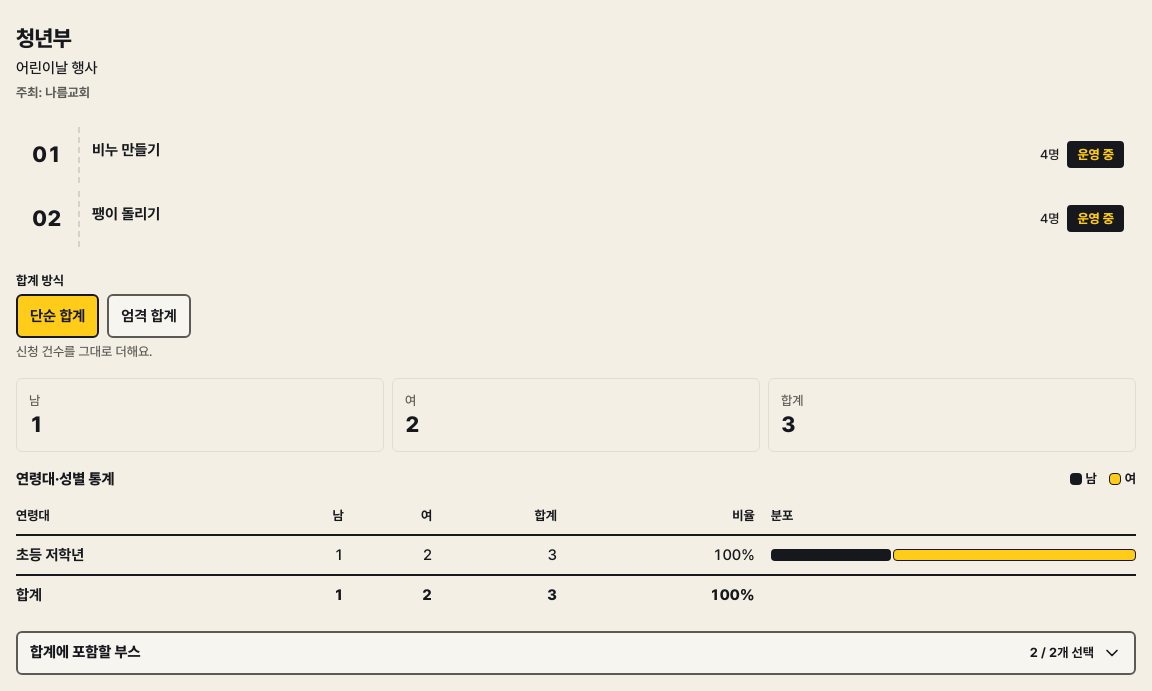
StatsPanel › 합계 방식마다 설명 문구가 바뀐다
The image size is (1152, 691).
Check: the text "신청 건수를 그대로 더해요." is shown, box x1=16 y1=344 x2=152 y2=359
Click the radio button labelled "엄격 합계" at (149, 316), box x1=107 y1=294 x2=191 y2=338
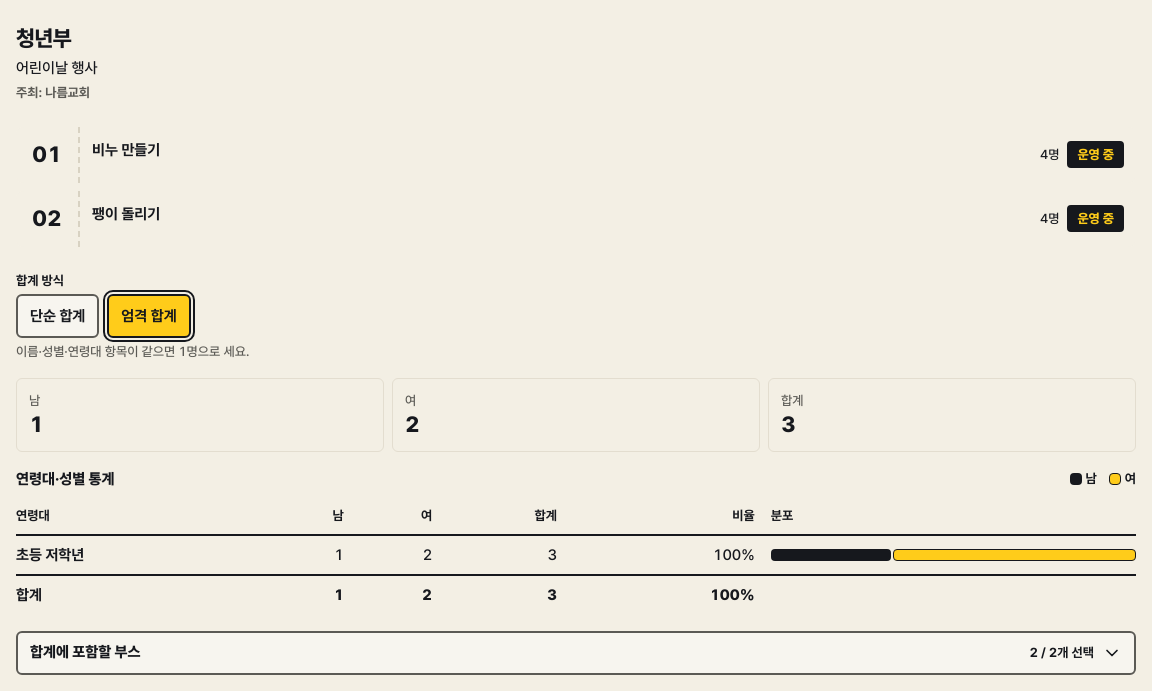
Check: the text "이름·성별·연령대 항목이 같으면 1명으로 세요." is shown, box x1=16 y1=344 x2=249 y2=359
